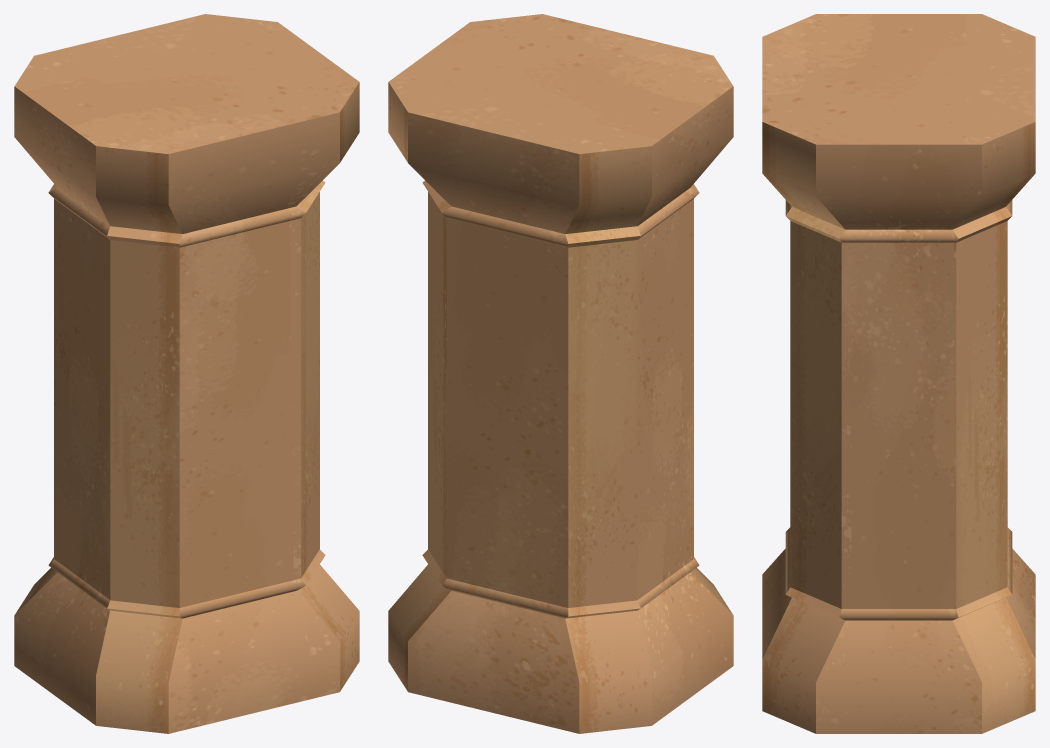
The model's file is SM_bigPillar.fbx.
3 renders of one model, left to right at view 1: azimuth 30°, elevation 25°; view 2: azimuth 150°, elevation 25°; view 3: azimuth 270°, elevation 25°, orthographic.
Visible parts, largest first — view 1: bigPillar; view 2: bigPillar; view 3: bigPillar.
Part boxes in pixels (bbox=[...]): bigPillar: bbox=[14, 14, 359, 733]; bigPillar: bbox=[388, 14, 733, 733]; bigPillar: bbox=[762, 14, 1035, 733].
Size of the model in its own units: 26.13 by 54.96 by 23.1.
